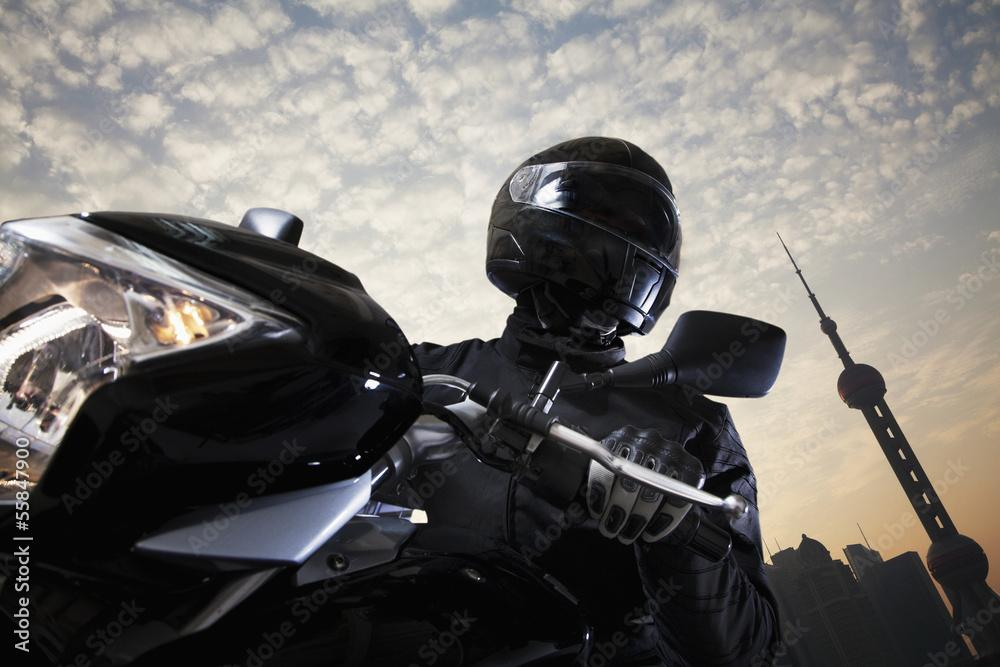helmet: (484, 134, 684, 339)
